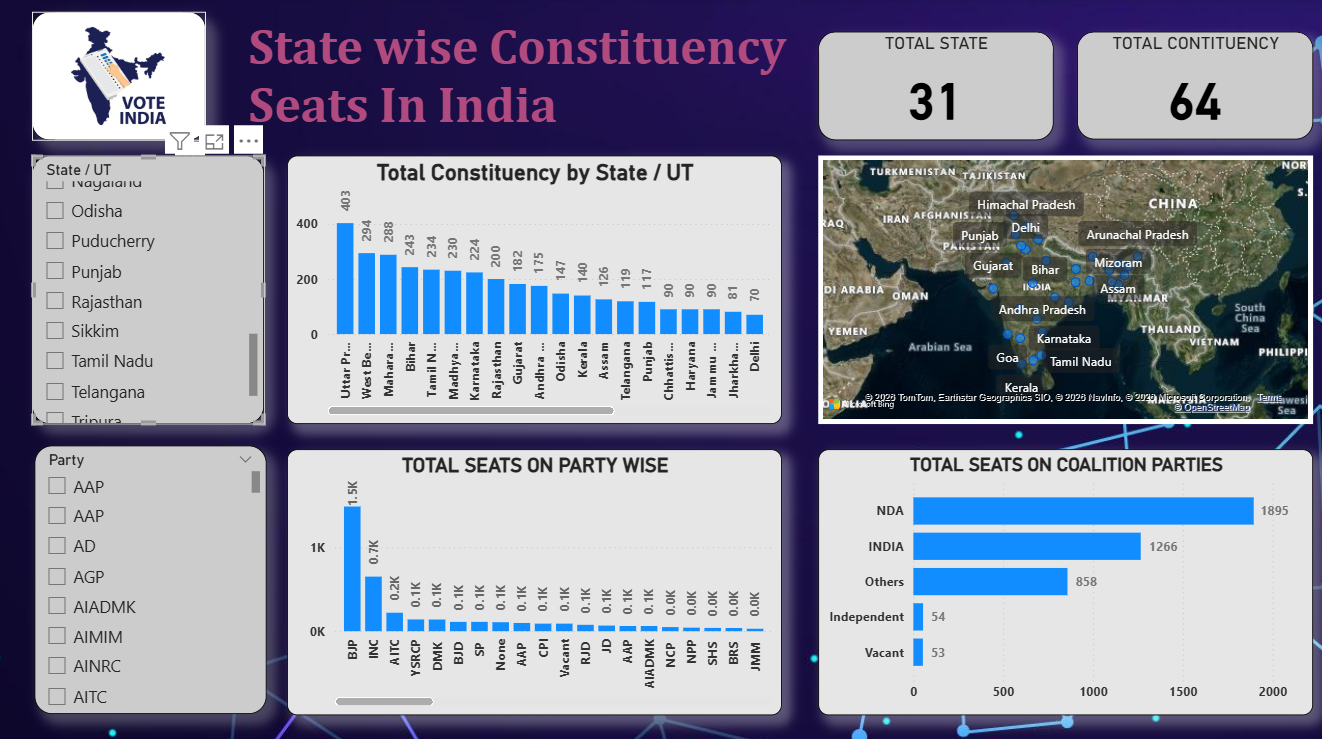

The page's visual inventory and layout, read from the dashboard file:
{"tool":"powerbi","page":{"name":"Page 1","canvas":[1280,720],"ordinal":0},"visuals":[{"type":"card","title":"TOTAL STATE","fields":{"Values":["Count(Data.State / UT)"]},"box":[792.6,32.6,226.8,105],"z":0},{"type":"card","title":"TOTAL CONTITUENCY","fields":{"Values":["Count(Data.Total Constituency)"]},"box":[1042.4,32.6,228,103.8],"z":1000},{"type":"columnChart","title":"Total Constituency by State / UT","fields":{"Category":["Data.State / UT"],"Y":["Sum(Data.Total Constituency)"]},"box":[279.9,152.3,477.5,259.3],"z":2000},{"type":"map","fields":{"Category":["Data.State / UT"]},"box":[793.1,152.3,477.5,259.3],"z":3000},{"type":"columnChart","title":"TOTAL SEATS ON PARTY WISE","fields":{"Y":["Sum(Data.Total Constituency)"],"Category":["Data.Party"]},"box":[279.9,435,477.5,256.6],"z":4000},{"type":"clusteredBarChart","title":"TOTAL SEATS ON COALITION PARTIES","fields":{"Category":["Data.NDA / INDI"],"Y":["Sum(Data.Total Constituency)"]},"box":[793.1,435,477.5,256.6],"z":5000},{"type":"slicer","fields":{"Values":["Data.State / UT"]},"box":[34.3,152.3,223.7,259.3],"z":6000},{"type":"slicer","fields":{"Values":["Data.Party"]},"box":[35.7,432.2,223.7,259.3],"z":7000},{"type":"textbox","box":[237.4,13.7,544.8,138.6],"z":8000},{"type":"image","box":[33.8,13.3,167.7,124.3],"z":8001}]}

Visuals, with their boxes in screenshot pixels (x1, y1, x2, y2), scaled from the page's 1280x720 canvas onto the 1322x739 screenshot:
"TOTAL STATE" card: <region>819, 33, 1053, 141</region>
"TOTAL CONTITUENCY" card: <region>1077, 33, 1312, 140</region>
"Total Constituency by State / UT" columnChart: <region>289, 156, 782, 422</region>
map - Data.State / UT: <region>819, 156, 1312, 422</region>
"TOTAL SEATS ON PARTY WISE" columnChart: <region>289, 446, 782, 710</region>
"TOTAL SEATS ON COALITION PARTIES" clusteredBarChart: <region>819, 446, 1312, 710</region>
slicer - Data.State / UT: <region>35, 156, 266, 422</region>
slicer - Data.Party: <region>37, 444, 268, 710</region>
textbox: <region>245, 14, 808, 156</region>
image: <region>35, 14, 208, 141</region>
